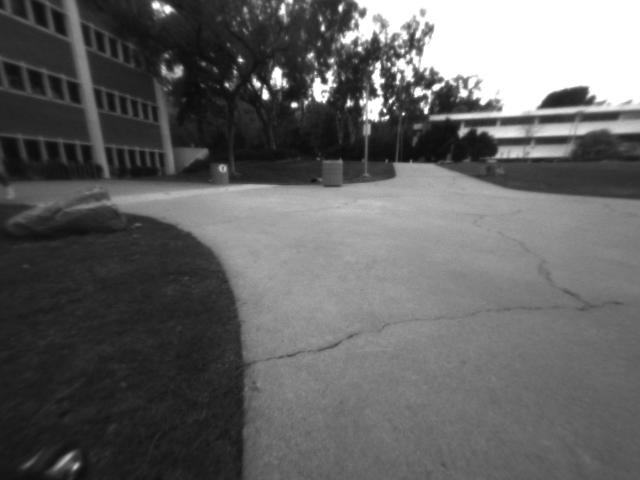trashcan: (321, 158, 342, 192), (209, 161, 231, 186)
